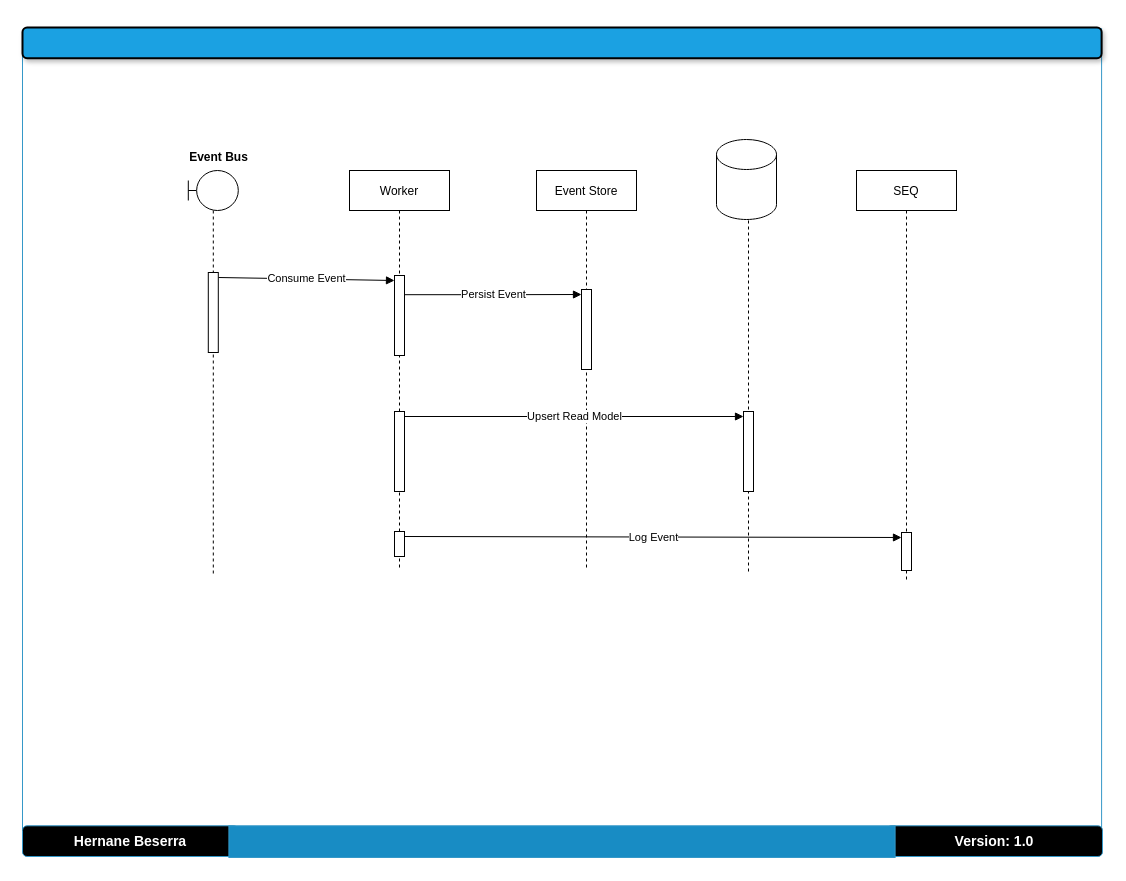
Some shapes in this 1126 by 881 pixel diagram are drawn without their labels. The centre of each missing label's shape, as x and y in pixels:
"Read Model" goes at (x=746, y=179).
"Transaction Subscriber (Deposit or Withdrawl) - Sequence Diagram" goes at (x=562, y=44).
